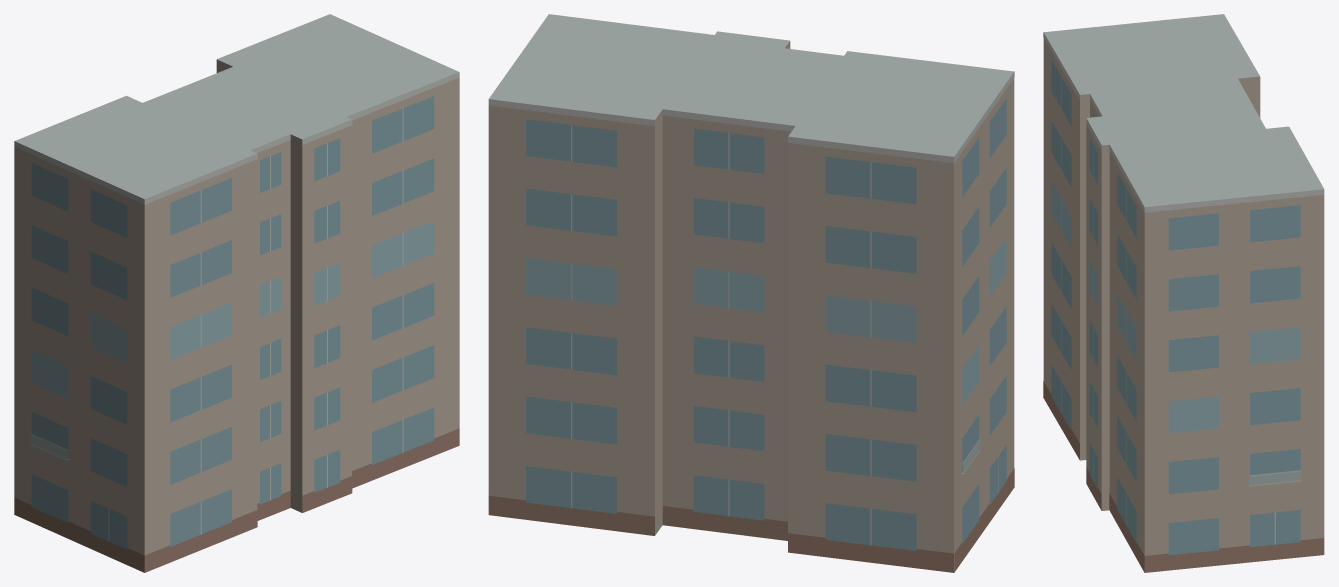
Rendered from survey-upis-32748873.glb.
The picture shows the model from 3 angles, left to right: view 1: azimuth 30°, elevation 25°; view 2: azimuth 150°, elevation 25°; view 3: azimuth 270°, elevation 25°; orthographic projection. The views are drawn at different scales.
Visible parts, largest first — view 1: survey-upis-32748873.tmp; view 2: survey-upis-32748873.tmp; view 3: survey-upis-32748873.tmp.
Part boxes in pixels (bbox=[...]): survey-upis-32748873.tmp: bbox=[14, 14, 459, 572]; survey-upis-32748873.tmp: bbox=[488, 14, 1014, 572]; survey-upis-32748873.tmp: bbox=[1043, 14, 1324, 572].
Size of the model in its own units: 18.37 by 16.2 by 11.29.
